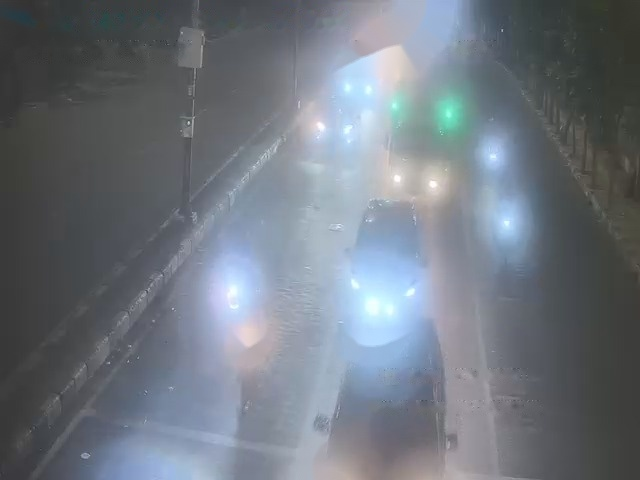Mobil: (328, 340, 454, 479), (346, 198, 420, 329), (315, 92, 361, 148), (340, 54, 373, 100)
Motor: (224, 261, 246, 315), (493, 207, 518, 245), (485, 144, 503, 171)
Truk: (388, 72, 467, 203)
